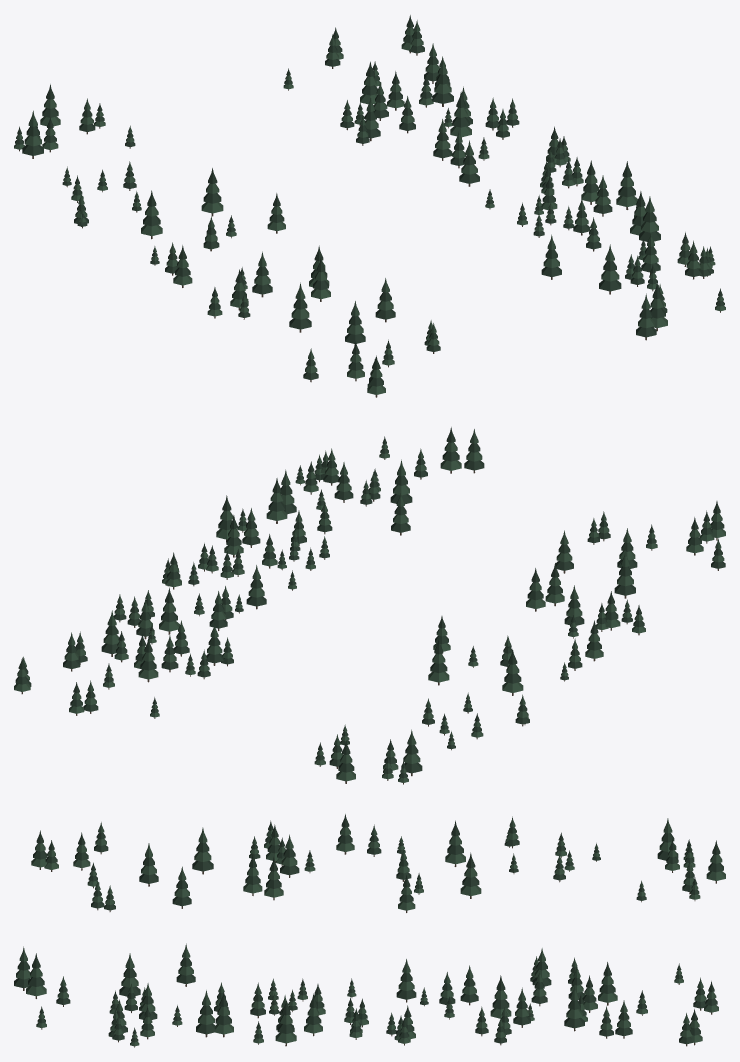
File: Treeline.obj
The picture shows the model from 3 angles, top to bottom: view 1: azimuth 30°, elevation 25°; view 2: azimuth 150°, elevation 25°; view 3: azimuth 270°, elevation 25°; orthographic projection. The views are drawn at different scales.
Parts seen in each view (by area): view 1: Treeline; view 2: Treeline; view 3: Treeline.
Part boxes in pixels (bbox=[...]): Treeline: bbox=[14, 15, 725, 397]; Treeline: bbox=[14, 427, 725, 784]; Treeline: bbox=[14, 814, 725, 1047].
Bounding box in the file's own units: 155 × 16.69 × 226.
1 material, 1 textured.
